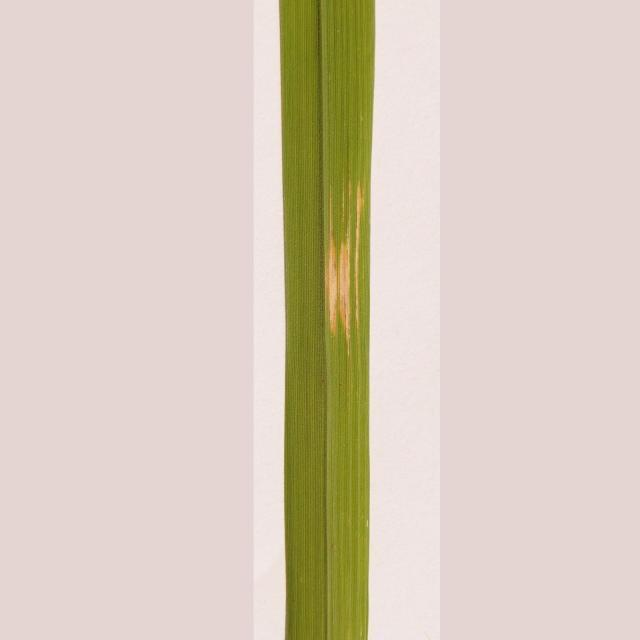Bacterial_Leaf_Blight: (307, 191, 374, 380)
